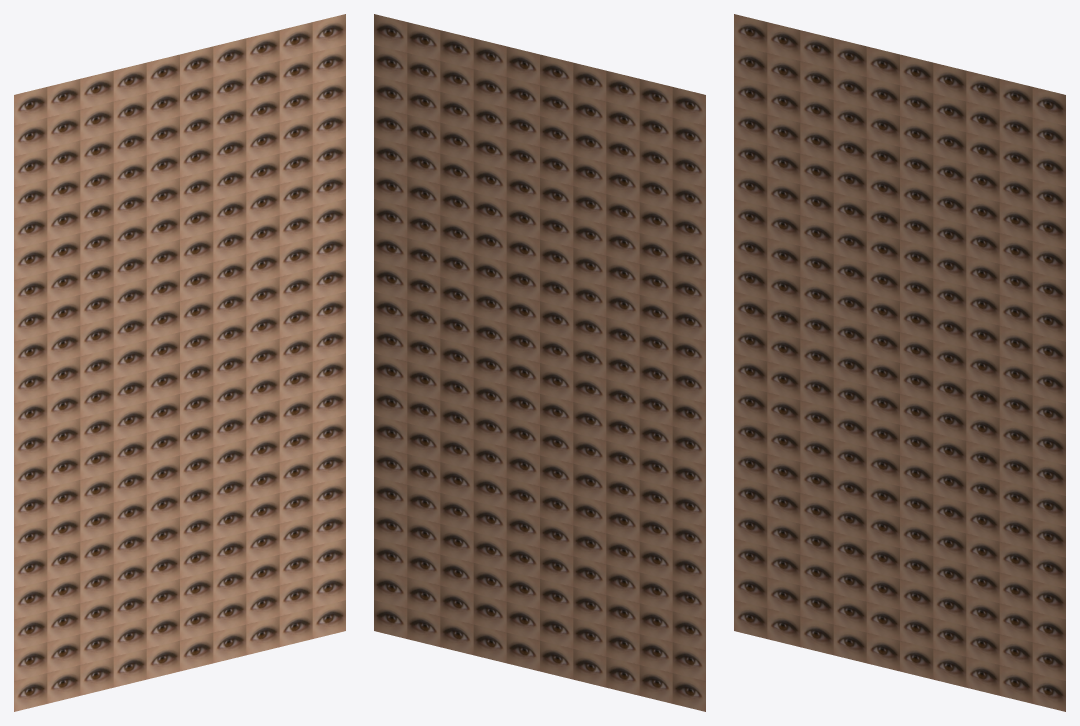
File: AllEyes.fbx
The picture shows the model from 3 angles, left to right: view 1: azimuth 30°, elevation 25°; view 2: azimuth 150°, elevation 25°; view 3: azimuth 330°, elevation 25°; orthographic projection.
Visible parts, largest first — view 1: Plane_1; view 2: Plane_1; view 3: Plane_1.
Boxes of the visible parts, bbox=[...] form: Plane_1: bbox=[14, 14, 345, 711]; Plane_1: bbox=[374, 14, 705, 711]; Plane_1: bbox=[734, 14, 1065, 711].
Bounding box in the file's own units: 720 × 1280 × 3.63e-13.
1 material, 1 textured.
